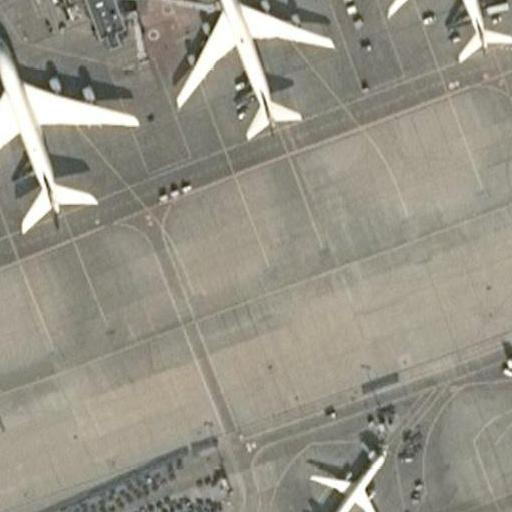Aircraft: (0, 30, 141, 233), (169, 0, 340, 139), (376, 0, 512, 65), (288, 434, 394, 512)
